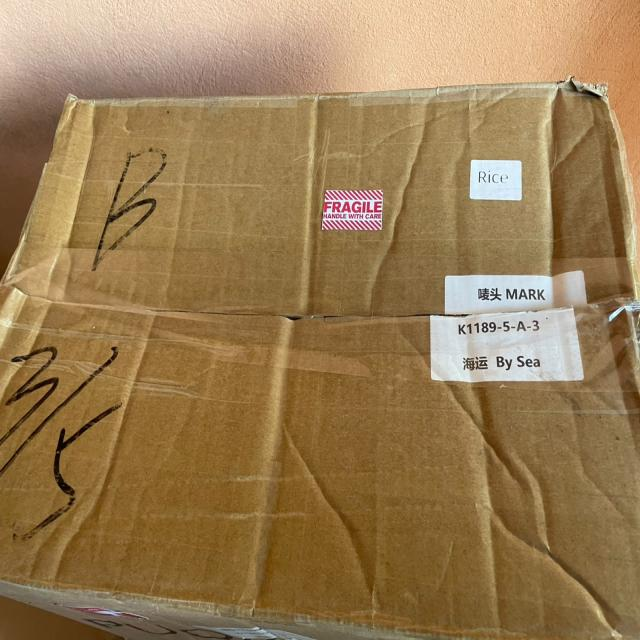carton_box: (3, 60, 640, 640)
export_mark_label: (424, 293, 593, 400)
fragile_label: (308, 180, 402, 264)
package_damage: (236, 279, 394, 350), (602, 251, 640, 418), (552, 61, 633, 138)
